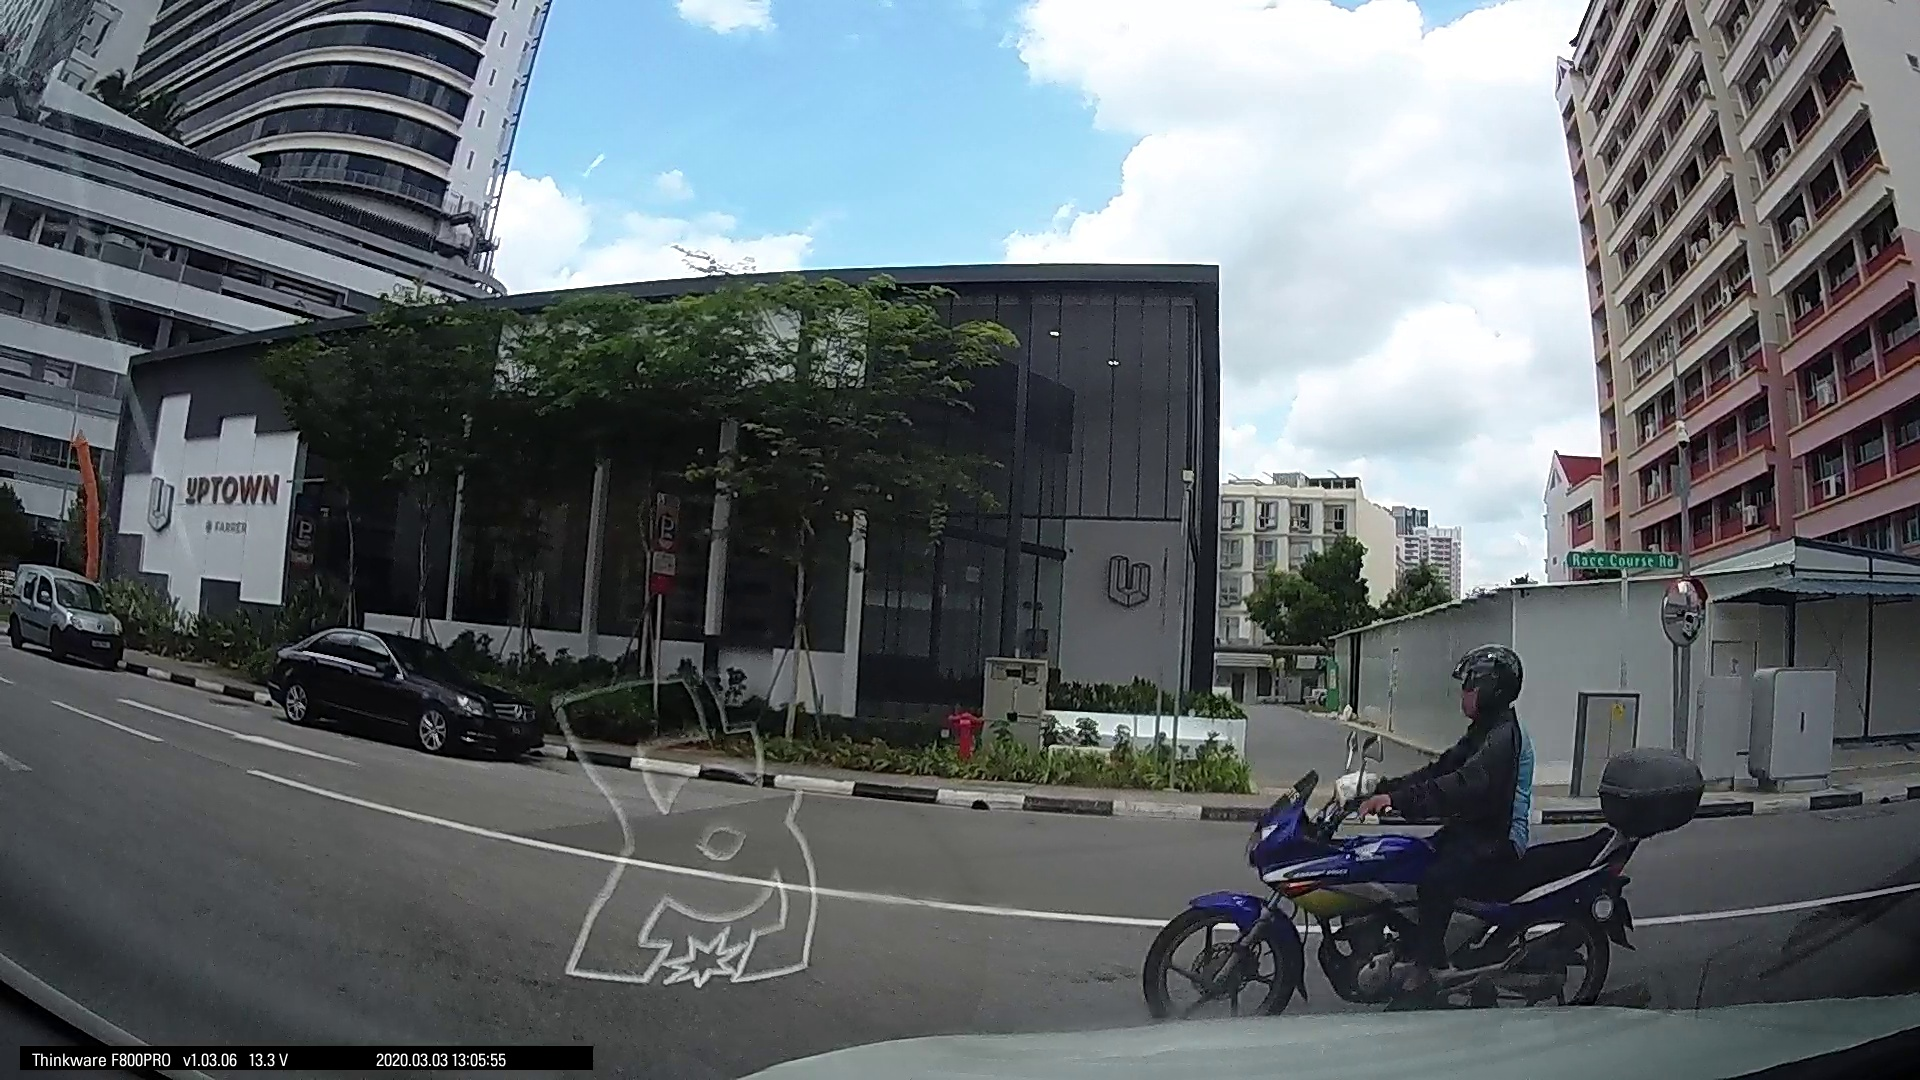Light Vehicle: (260, 618, 546, 758), (4, 556, 127, 670)
Motorcycle: (1174, 721, 1698, 1031)
